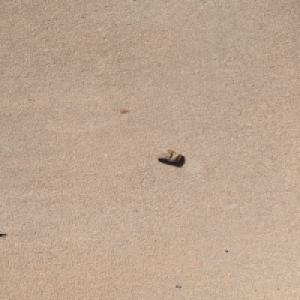Rock: (153, 148, 182, 162)
